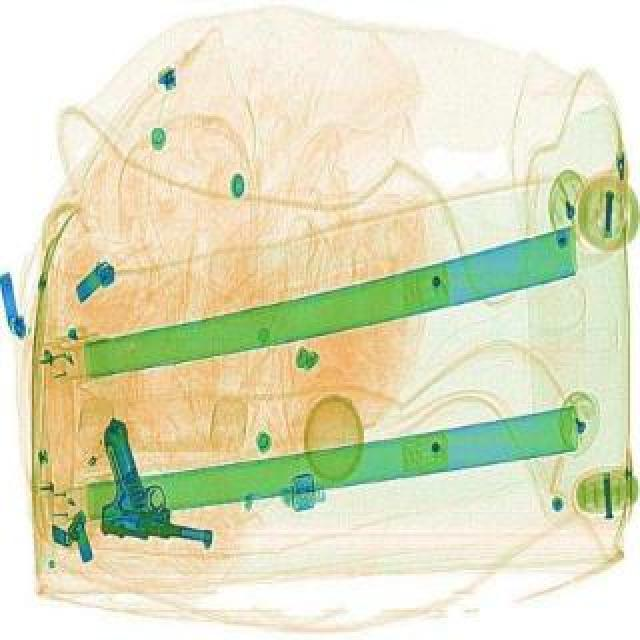gun: (84, 414, 234, 548)
